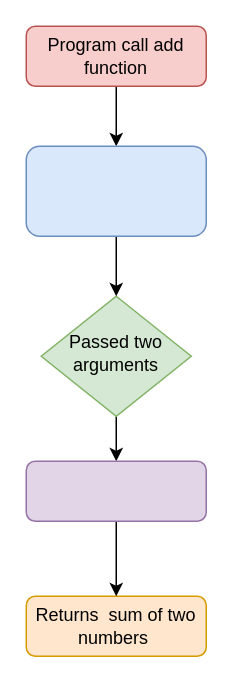
This 233x683 diagram has some shape labels left out. The centre of each missing label's shape, as x and y in pixels:
"Addition" goes at (x=115, y=190).
"Sum of two number is calculated" goes at (x=115, y=490).
